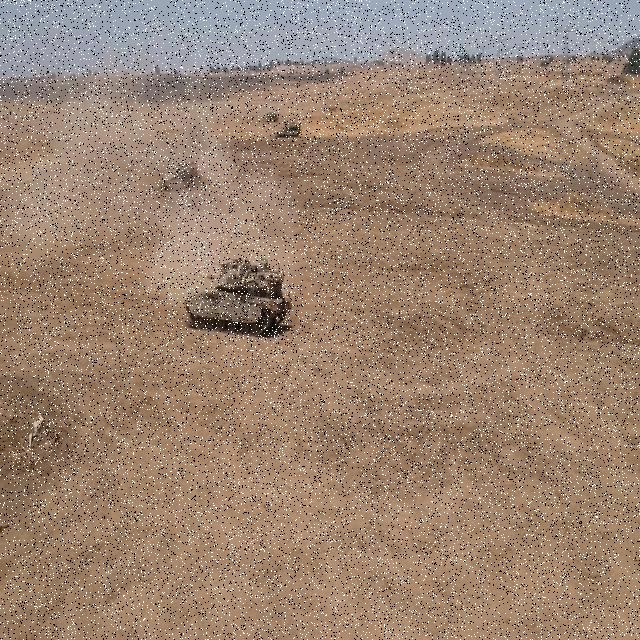MIL_MBT: (181, 247, 292, 336), (159, 153, 211, 207), (272, 118, 302, 146), (262, 105, 275, 122)
